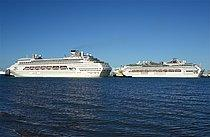Ship: (5, 49, 116, 82), (120, 58, 207, 81)
